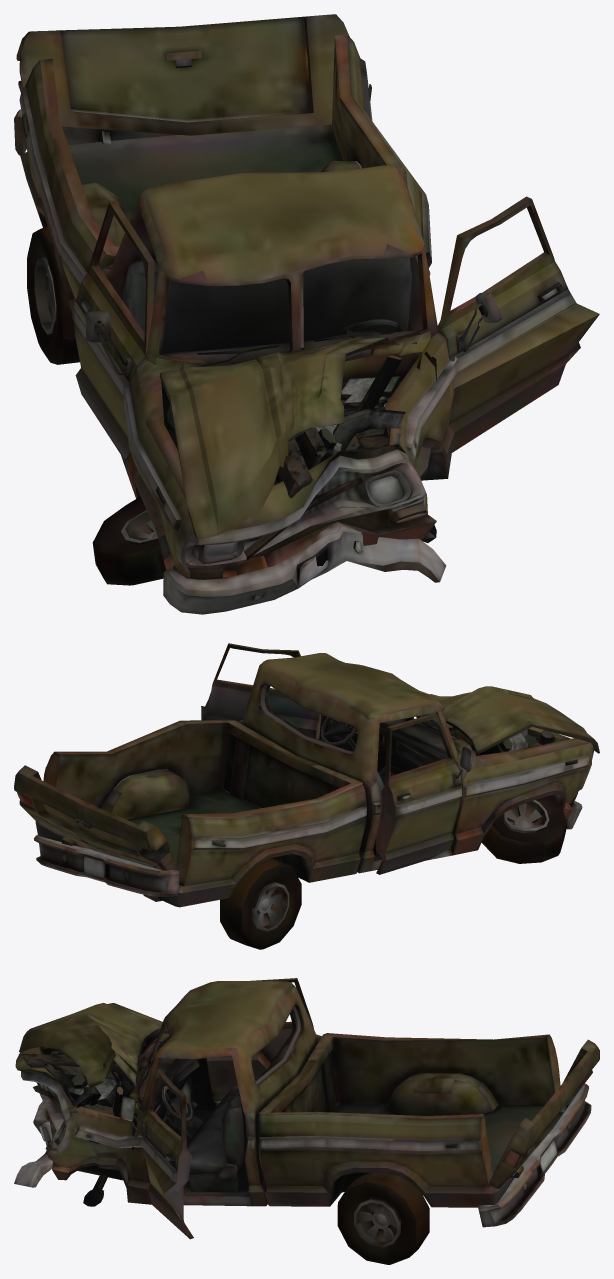
The model's file is car3_pickup_crashed.glb.
3 views of the same model, one above another, from view 1: azimuth 30°, elevation 25°; view 2: azimuth 150°, elevation 25°; view 3: azimuth 270°, elevation 25° (orthographic). The views are drawn at different scales.
Parts seen in each view (by area): view 1: KUZA_11, BAQAJ DOOR_1, KAPOT_3, QAPI_7, QAPI.001_8, ON-BUFER_5, ENGINE_2, TEKER.004_14, TEKER.003_13, ON-BUFER.001_6; view 2: KUZA_11, QAPI.001_8, BAQAJ DOOR_1, KAPOT_3, TEKER.004_14, TEKER.003_13, ON-BUFER.001_6, QAPI_7, SALON_10, ENGINE_2, ROL_9; view 3: KUZA_11, TEKER.002_12, KAPOT_3, QAPI_7, ON-BUFER.001_6, BAQAJ DOOR_1, ENGINE_2, QAPI.001_8, SALON_10, ON-BUFER_5, ROL_9.
Part boxes in pixels (x1,y1,x2,y2): KUZA_11: [19, 35, 458, 579]; BAQAJ DOOR_1: [16, 14, 349, 135]; KAPOT_3: [159, 336, 388, 539]; QAPI_7: [437, 196, 599, 452]; QAPI.001_8: [72, 201, 154, 459]; ON-BUFER_5: [163, 522, 446, 614]; ENGINE_2: [166, 355, 405, 498]; TEKER.004_14: [27, 226, 79, 364]; TEKER.003_13: [92, 496, 166, 585]; ON-BUFER.001_6: [14, 109, 178, 155]; KUZA_11: [35, 653, 593, 907]; QAPI.001_8: [376, 713, 473, 874]; BAQAJ DOOR_1: [14, 765, 177, 870]; KAPOT_3: [422, 686, 599, 754]; TEKER.004_14: [220, 858, 301, 949]; TEKER.003_13: [481, 795, 567, 863]; ON-BUFER.001_6: [34, 835, 179, 896]; QAPI_7: [201, 643, 320, 739]; SALON_10: [325, 716, 448, 785]; ENGINE_2: [416, 715, 569, 755]; ROL_9: [320, 717, 356, 745]; KUZA_11: [15, 981, 560, 1207]; TEKER.002_12: [337, 1172, 429, 1264]; KAPOT_3: [19, 1003, 167, 1087]; QAPI_7: [120, 1069, 193, 1239]; ON-BUFER.001_6: [478, 1083, 591, 1227]; BAQAJ DOOR_1: [489, 1039, 599, 1188]; ENGINE_2: [21, 1041, 145, 1117]; QAPI.001_8: [206, 978, 313, 1106]; SALON_10: [132, 1058, 203, 1149]; ON-BUFER_5: [14, 1101, 52, 1187]; ROL_9: [161, 1080, 192, 1121].
Bounding box in the file's own units: 3.84 × 1.91 × 5.4.
1 material, 1 textured.
